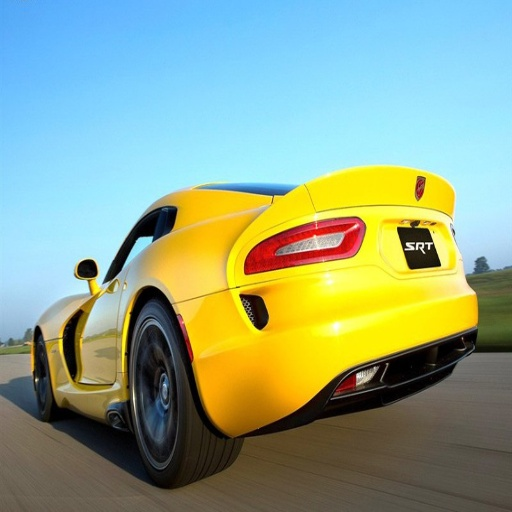back_bumper: (195, 307, 269, 433)
trunk: (217, 210, 451, 390)
